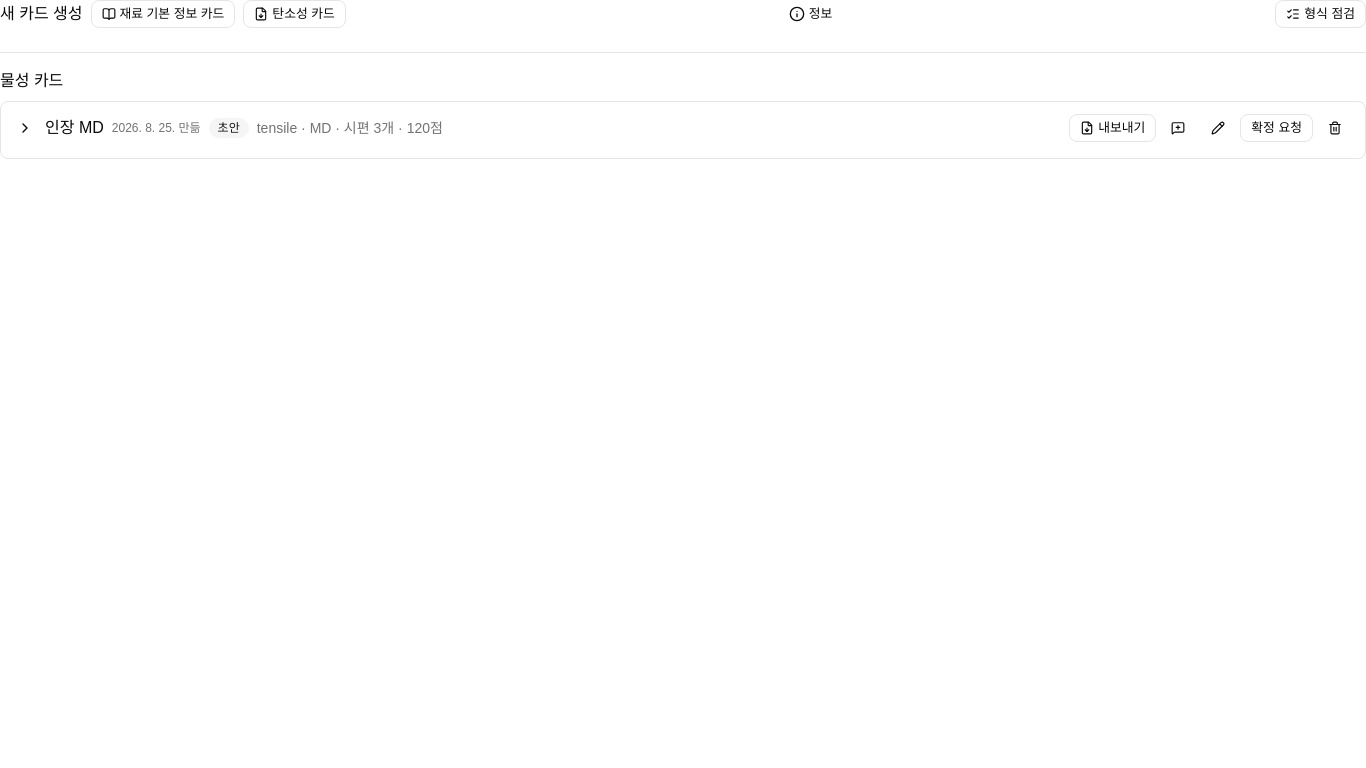
확정 요청 › 하루 안에 다시 보내면 서버의 이유를 창 안에 적는다
The image size is (1366, 768).
Click the button "확정 요청" at (1277, 128), box [1240, 114, 1313, 142]
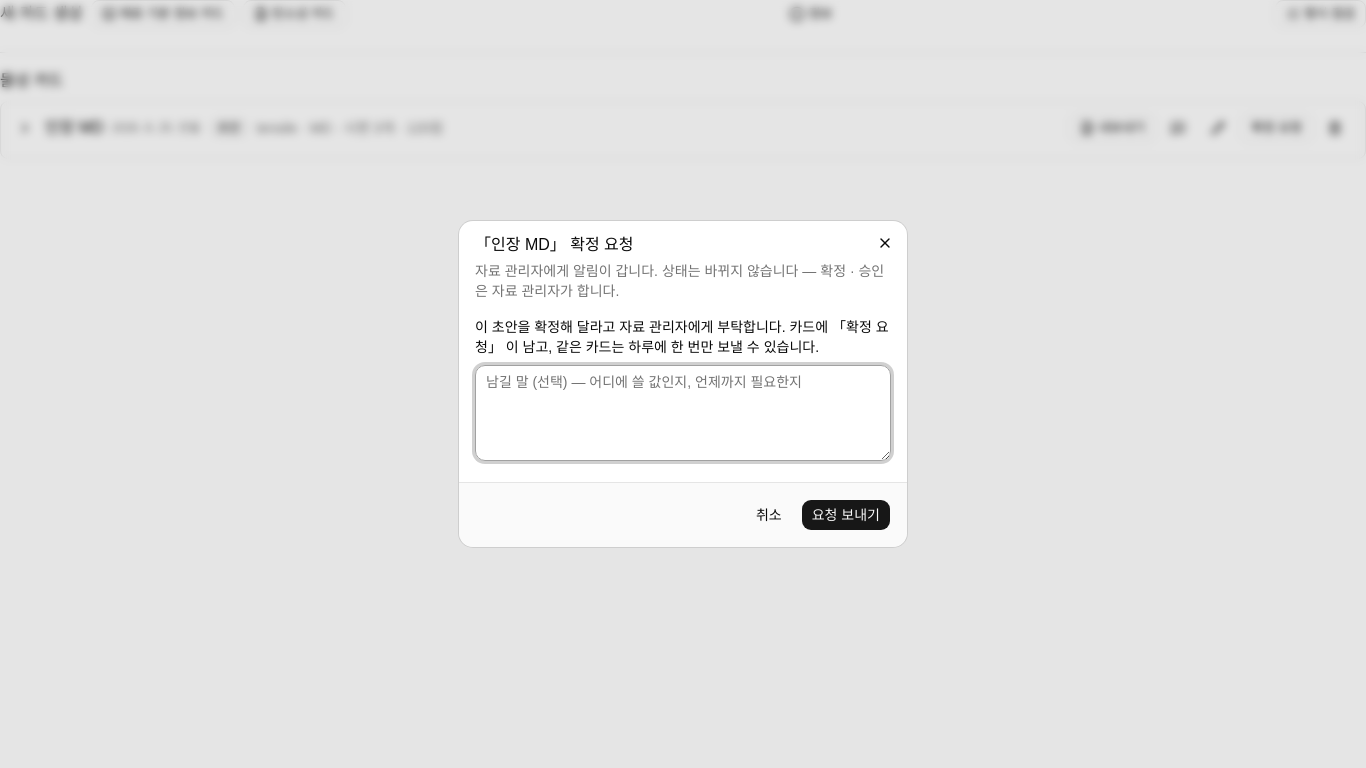
Click the button "요청 보내기" at (846, 515), box [801, 499, 891, 531]
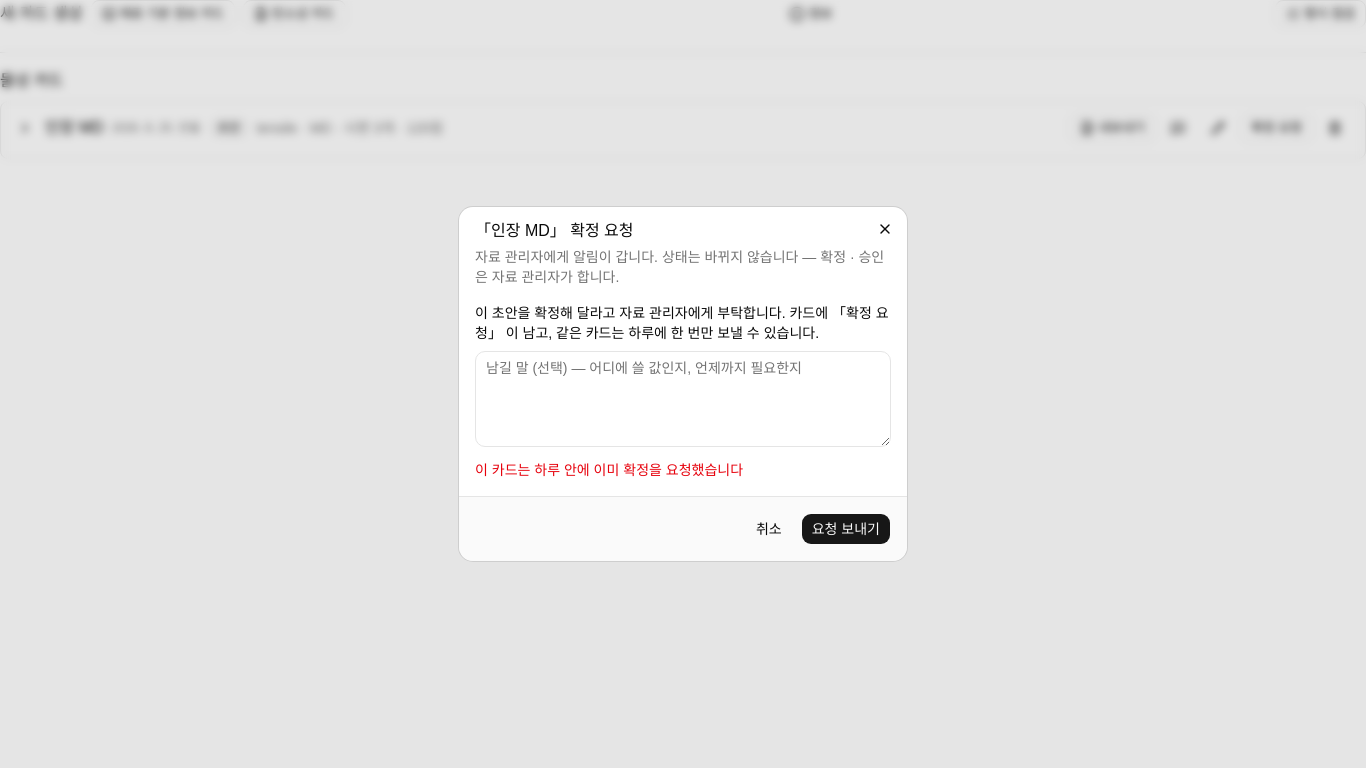
Check: the message shows "하루 안에 이미", box [475, 462, 743, 478]
